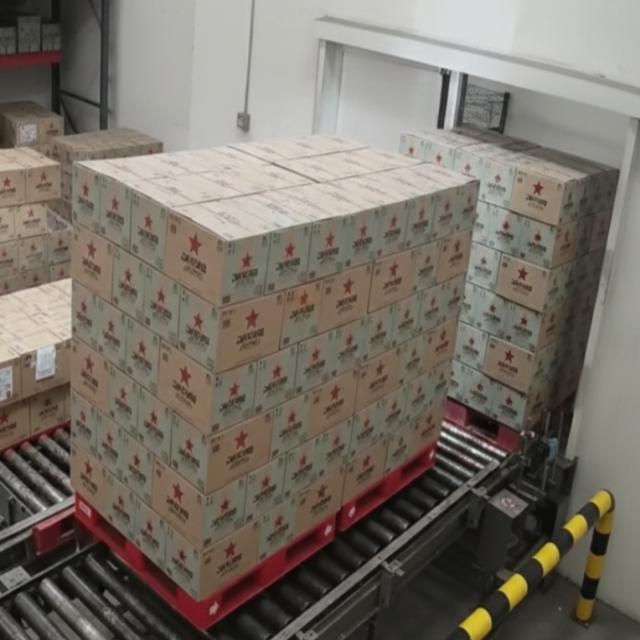pallet: (73, 123, 340, 640), (404, 88, 629, 469), (332, 109, 483, 556)
